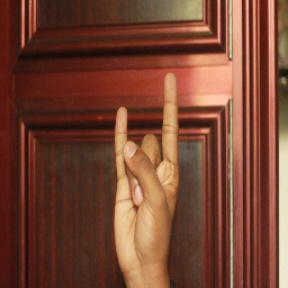V: (108, 69, 184, 264)
